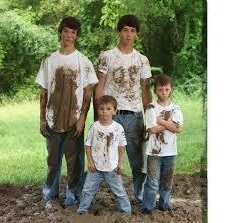earth: (56, 69, 76, 126), (116, 66, 140, 95), (105, 132, 114, 151), (163, 109, 172, 119), (152, 149, 162, 153), (161, 132, 164, 145)
